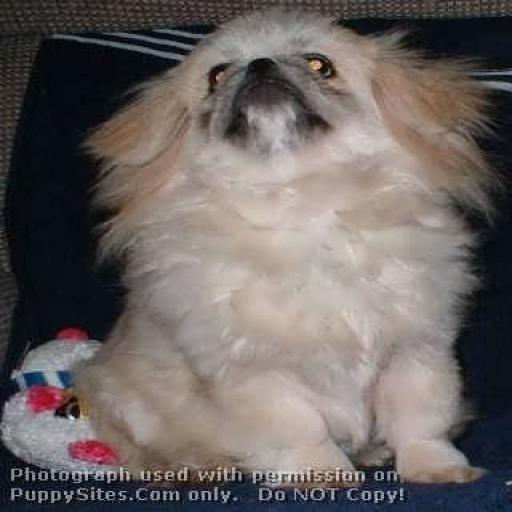dog_face: (82, 19, 466, 194)
